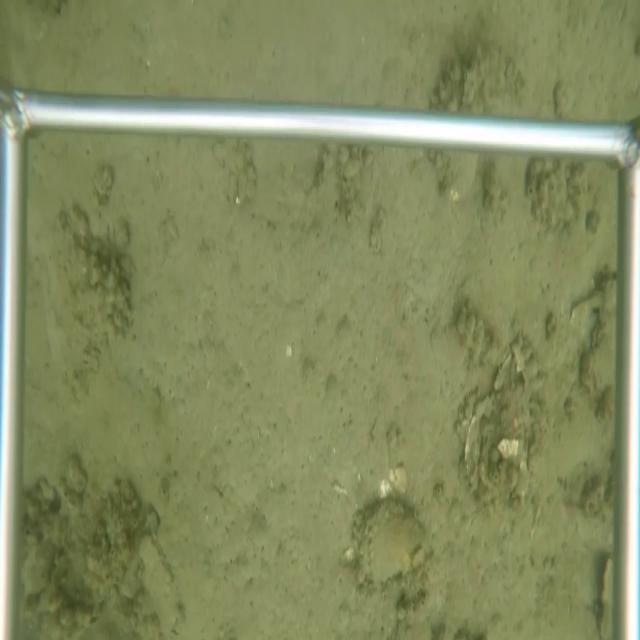Oyster-Indeterminate: (351, 496, 435, 598), (578, 270, 617, 411), (136, 532, 185, 636)
